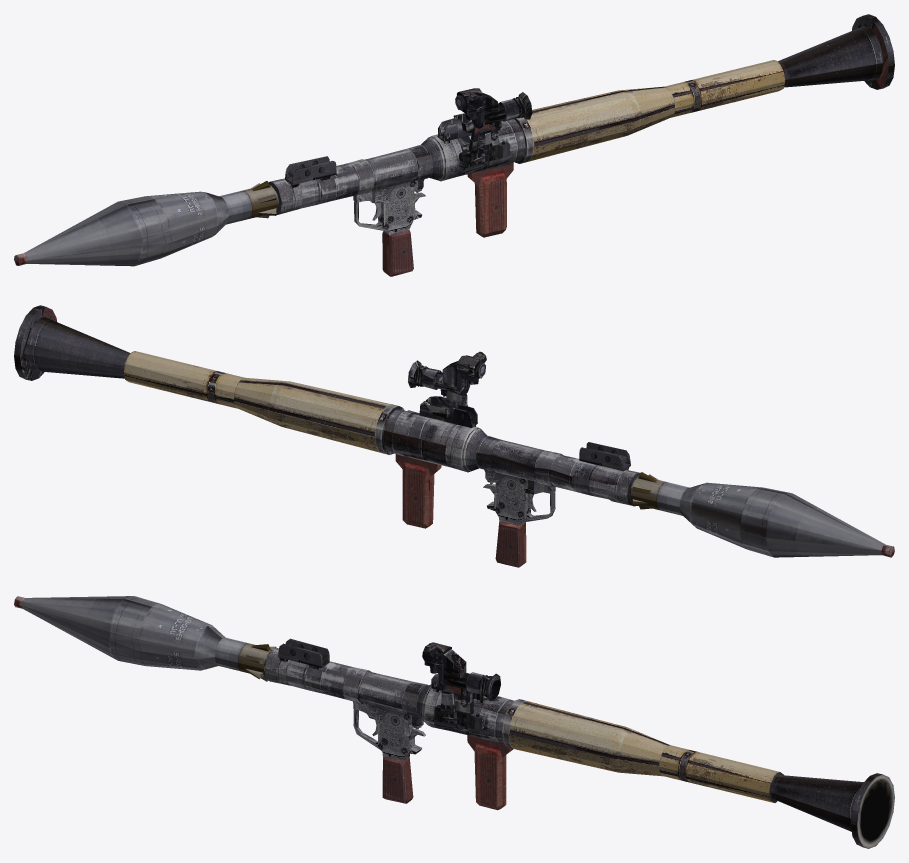
The model's file is w_rpg7.obj.
The picture shows the model from 3 angles, top to bottom: view 1: azimuth 30°, elevation 25°; view 2: azimuth 150°, elevation 25°; view 3: azimuth 330°, elevation 25°; orthographic projection.
Parts seen in each view (by area): view 1: Rpg7; view 2: Rpg7; view 3: Rpg7.
Part boxes in pixels (<box>): Rpg7: <box>14,14,894,276</box>; Rpg7: <box>14,305,894,567</box>; Rpg7: <box>14,596,894,848</box>.
Size of the model in its own units: 20.86 by 4.18 by 1.87.
